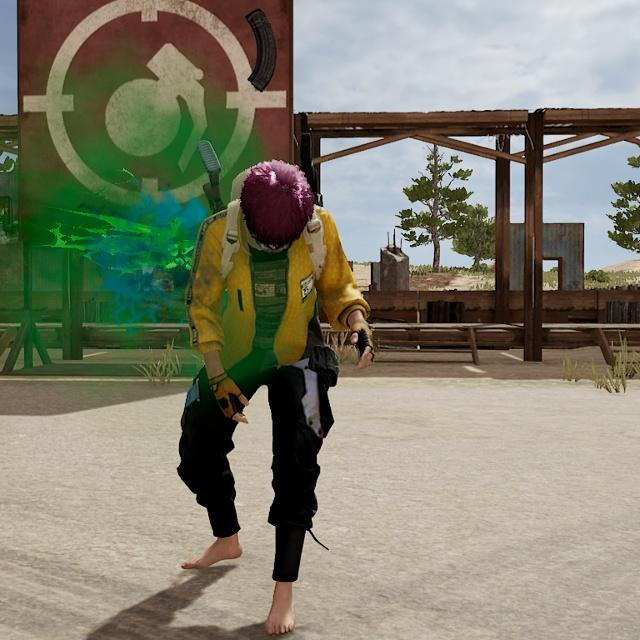head: (236, 155, 321, 263)
people: (168, 149, 383, 640)
